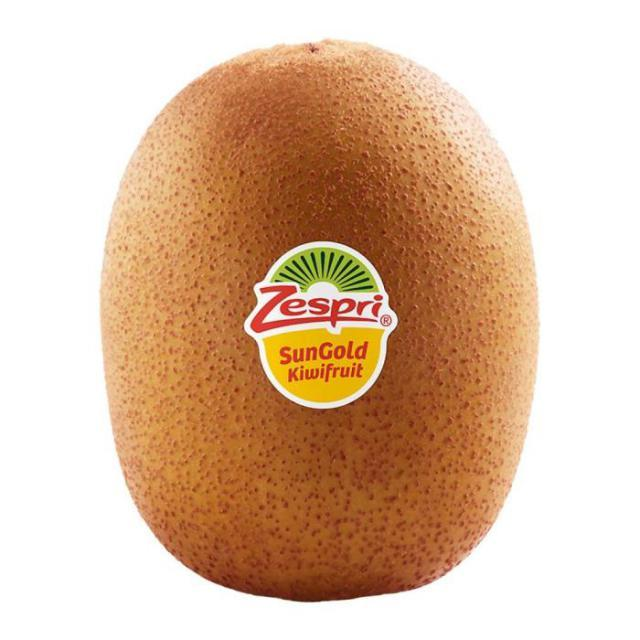kiwi: (100, 37, 548, 608)
